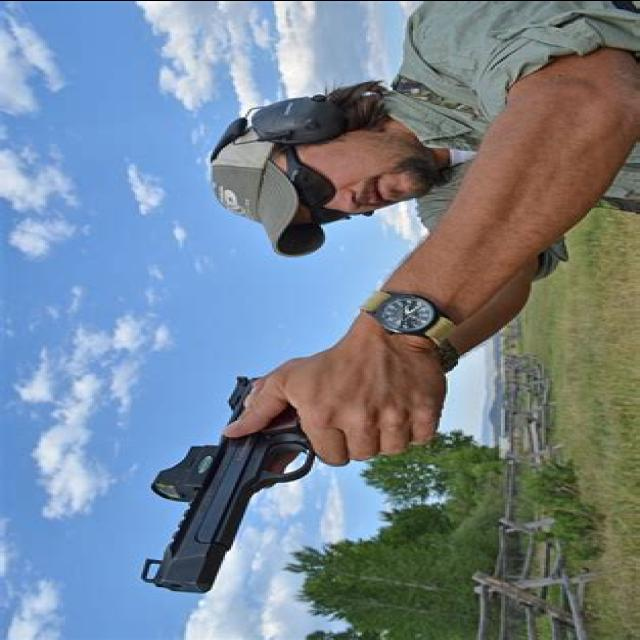weapons: (106, 347, 412, 609)
